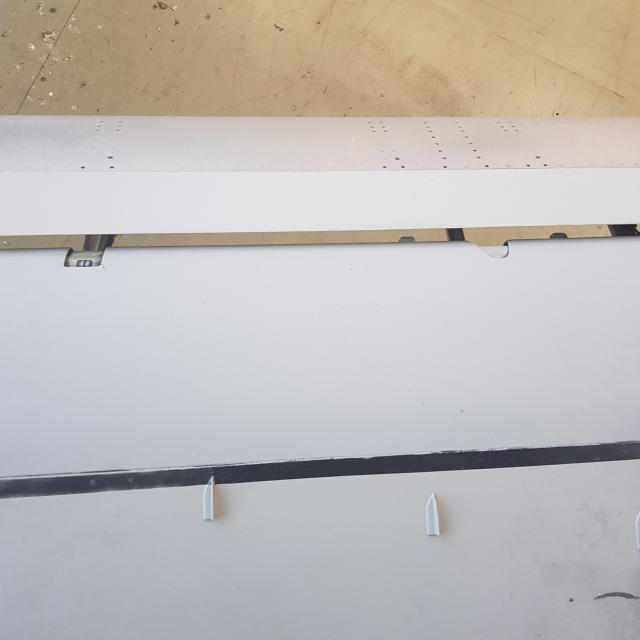Rupture: (96, 260, 112, 274)
